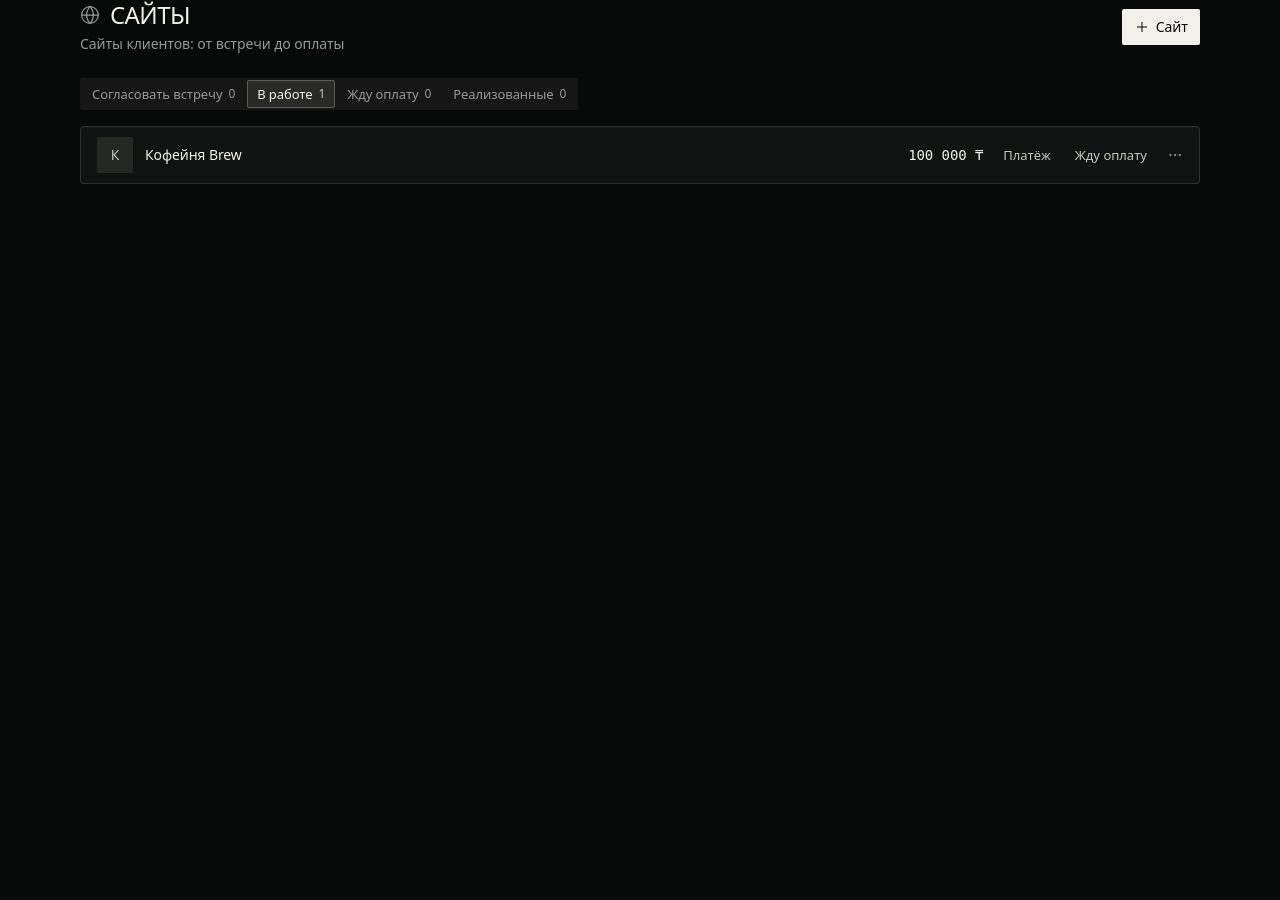
Test: SitesPage › платежи и остаток › the menu has «Записать платёж…»
The image size is (1280, 900).
Click the button named "Действия: Кофейня Brew" at point(1175, 155), box [1159, 139, 1191, 171]
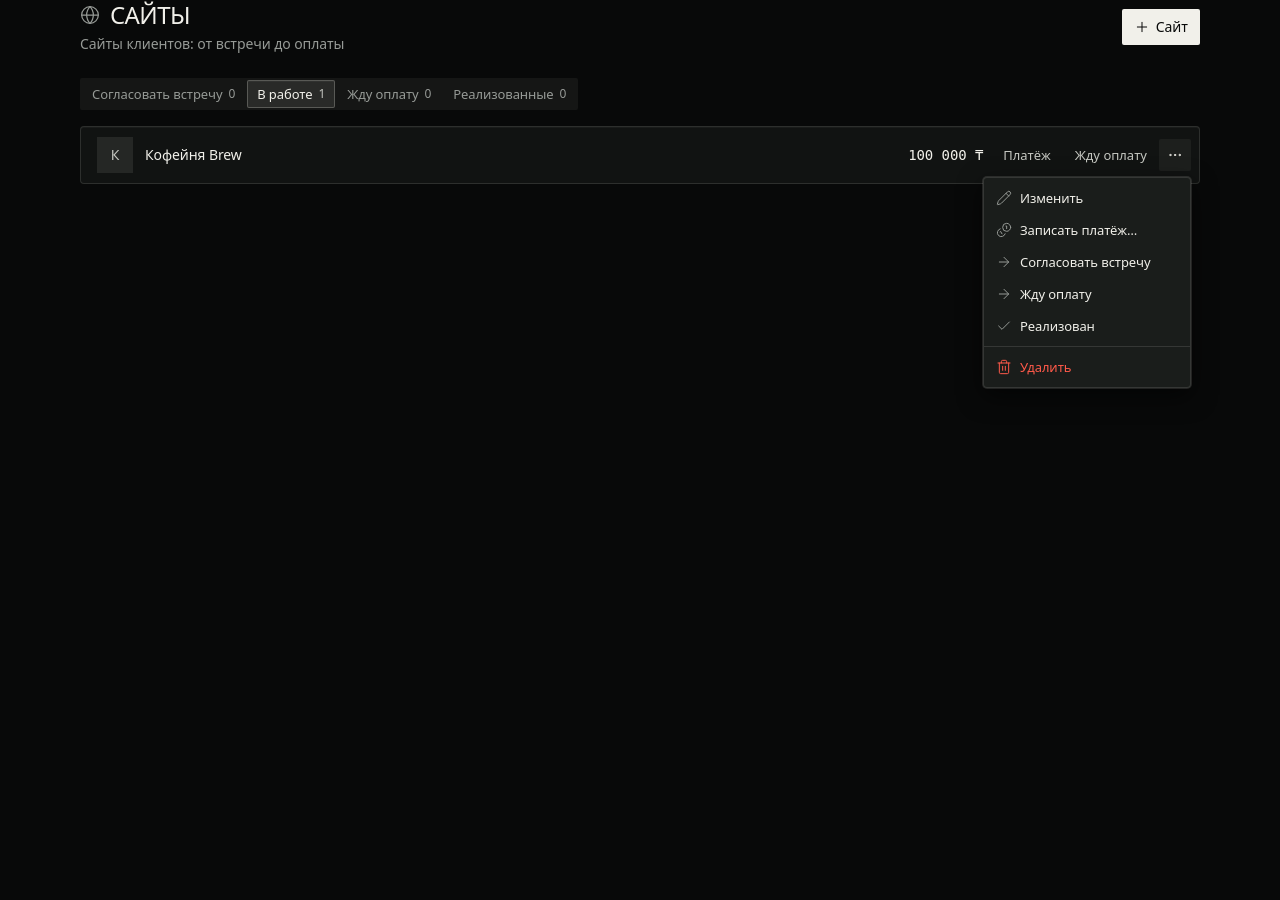
Click the menu item "Записать платёж…" at point(1087, 230), box [988, 214, 1186, 246]
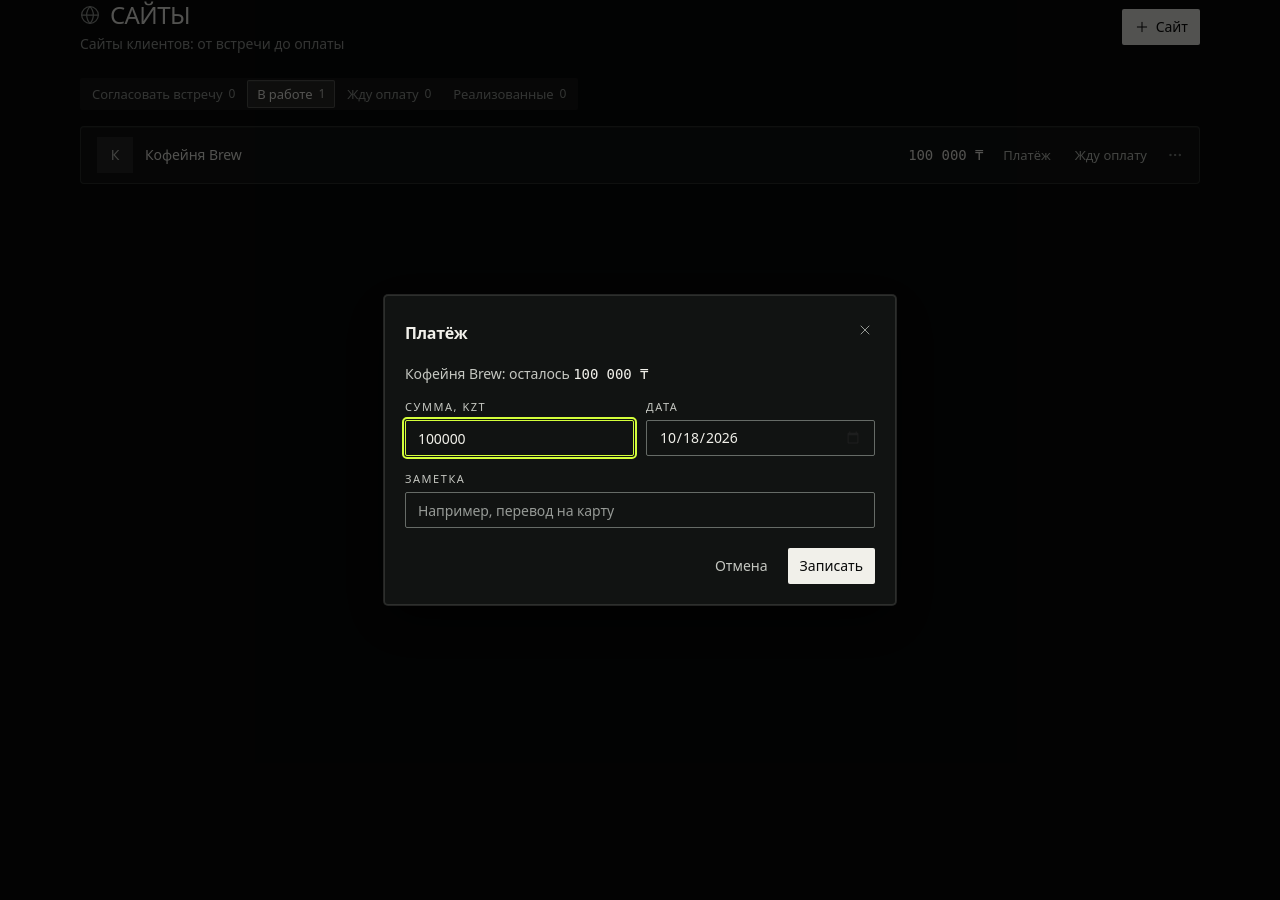
Result: the dialog "Платёж" is shown at [384, 295, 896, 605]
